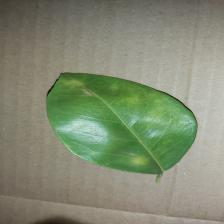greening: (44, 70, 200, 184)
